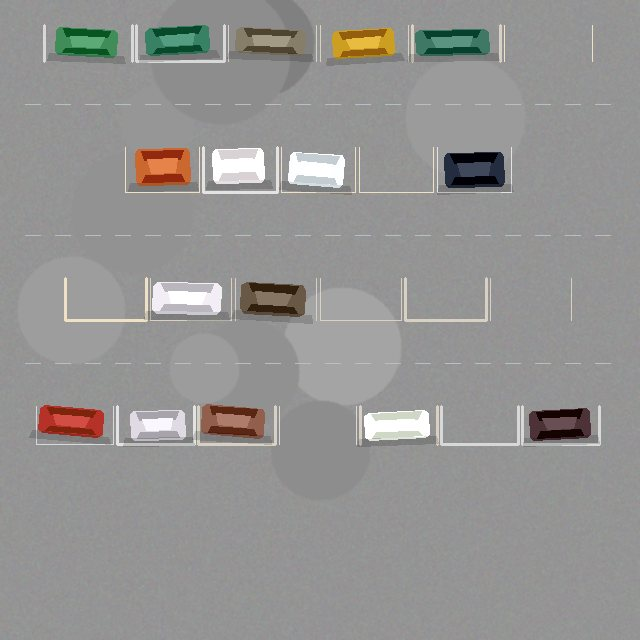space-empty: (65, 278, 146, 320), (320, 278, 401, 320), (405, 278, 486, 320), (490, 278, 571, 320), (359, 147, 433, 192), (504, 25, 592, 61), (279, 406, 356, 444), (441, 406, 518, 444)
space-occupied: (150, 278, 231, 320), (235, 278, 316, 320), (125, 147, 199, 192), (203, 147, 277, 192), (281, 147, 355, 192), (437, 147, 511, 192), (44, 25, 132, 61), (136, 25, 224, 61), (228, 25, 316, 61), (320, 25, 408, 61), (412, 25, 500, 61), (36, 406, 113, 444), (117, 406, 194, 444), (198, 406, 275, 444), (360, 406, 437, 444), (522, 406, 599, 444)
